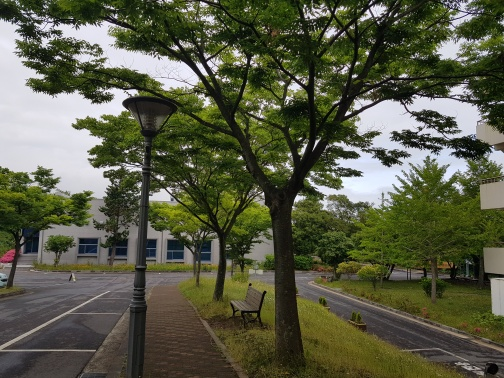College of Social Sciences: (21, 184, 288, 285)
